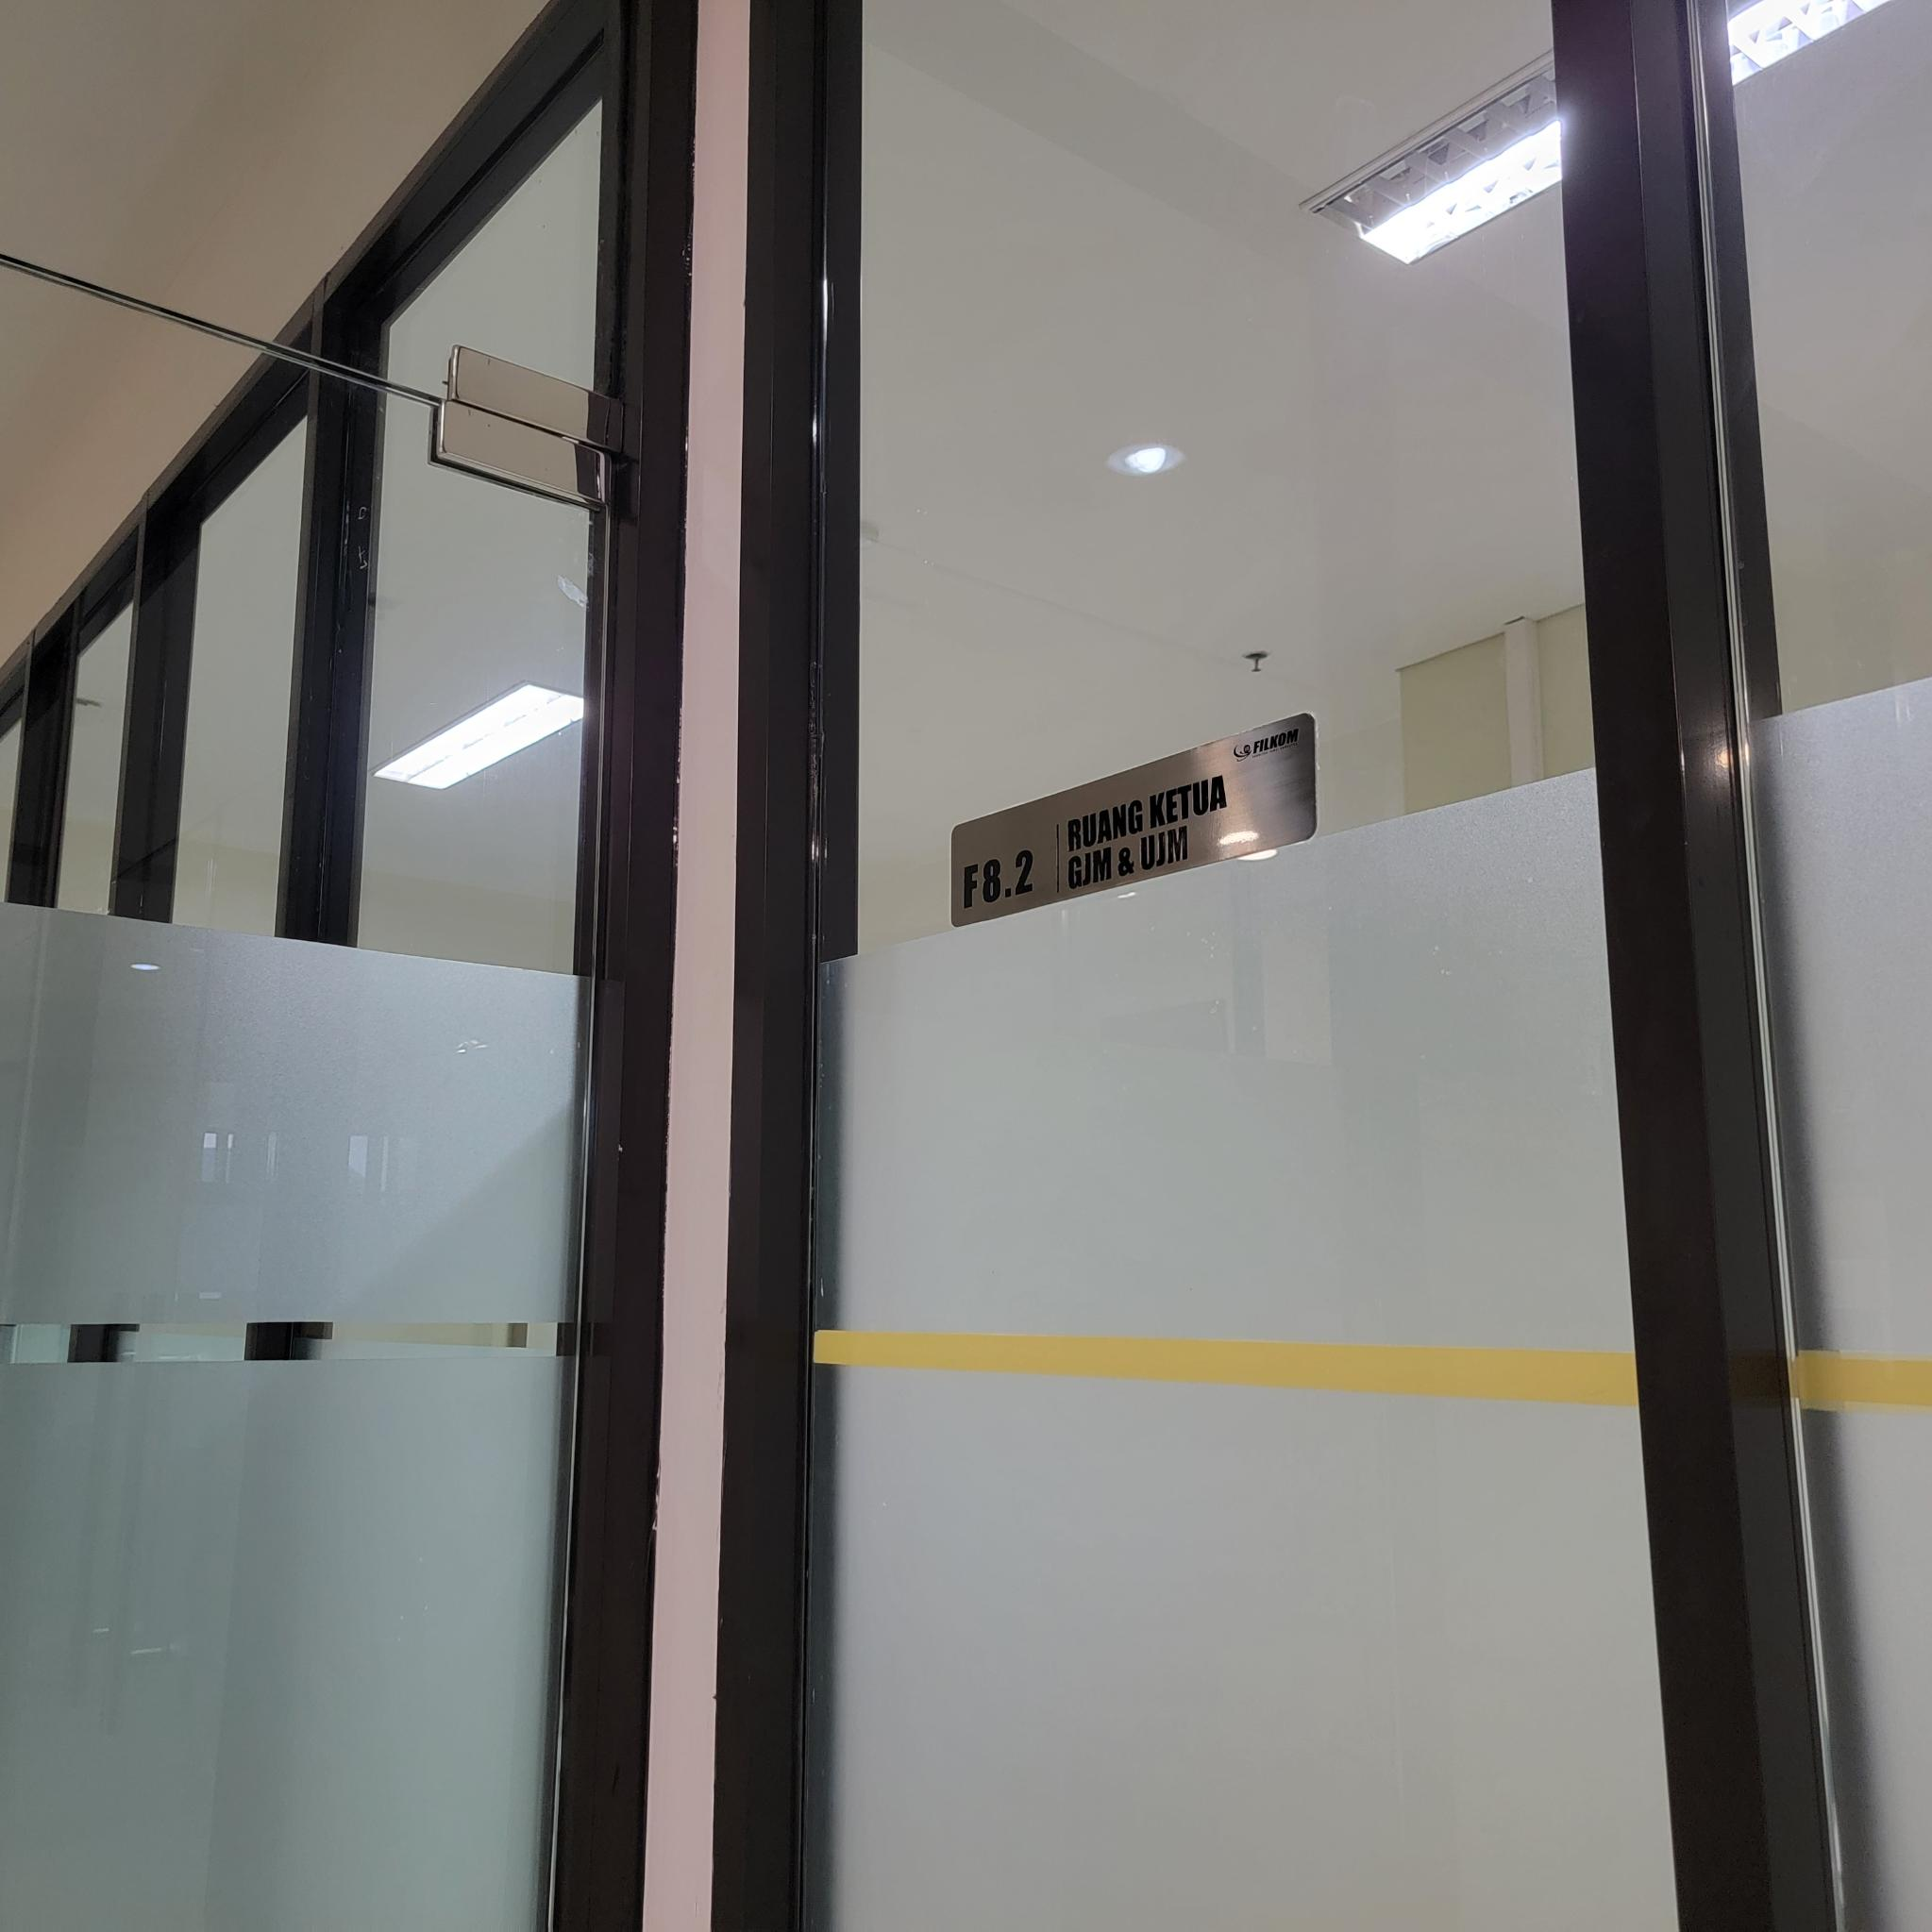plate: (948, 711, 1318, 929)
